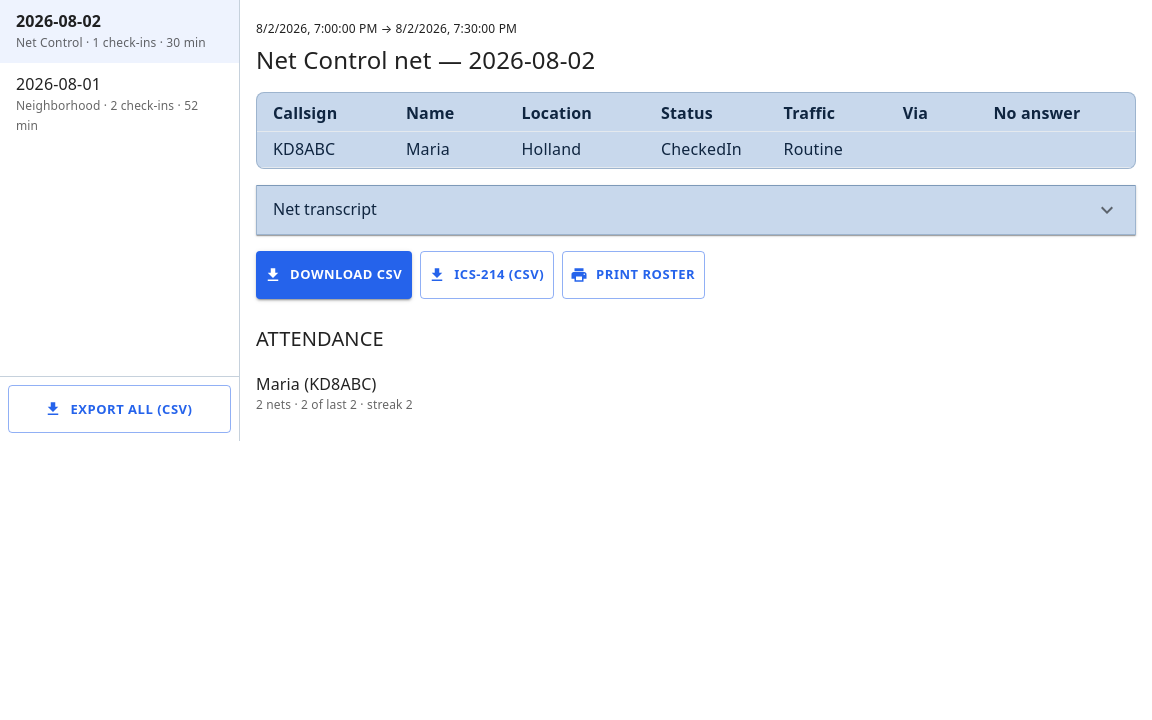
Test: PastNetsTab › will not export an ICS-214 until the incident name and preparer are given
The width and height of the screenshot is (1152, 720).
Step 1. Click the button "ICS-214 (CSV)" → (487, 274), box [420, 250, 554, 298]
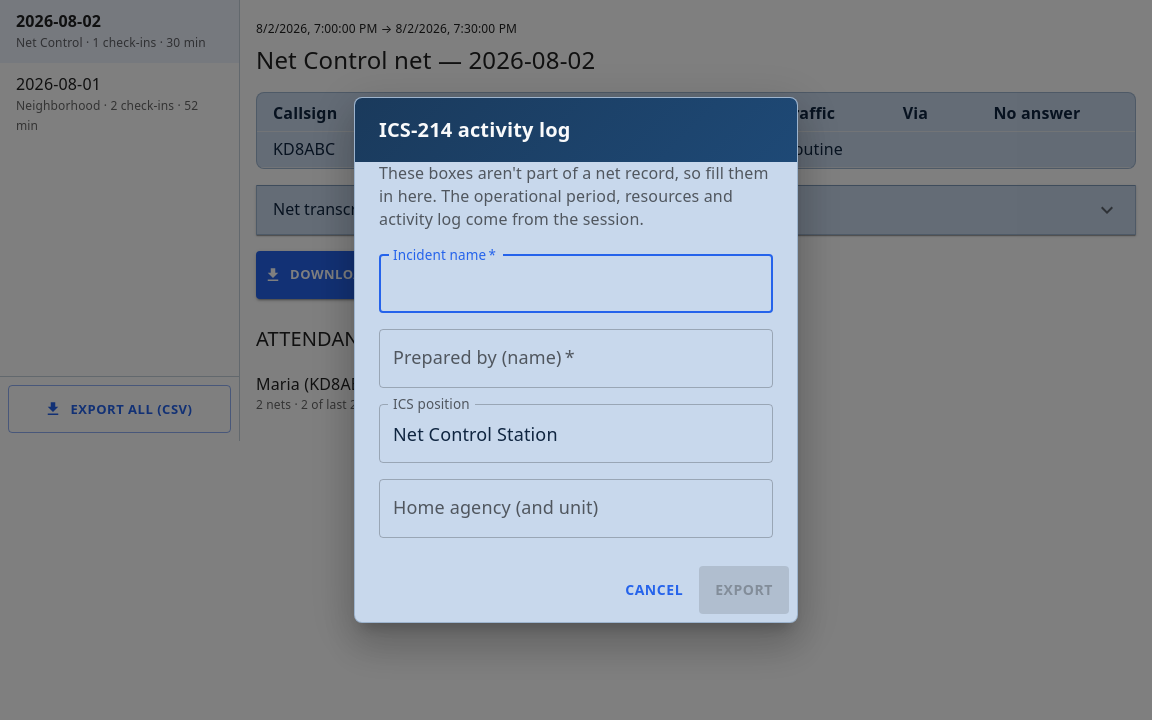
Result: the button "Export" is disabled at [699, 566, 789, 614]
Step 2. Type "Ottawa County Windstorm" into the field labelled "Incident name *" → (576, 284), box [379, 255, 773, 314]
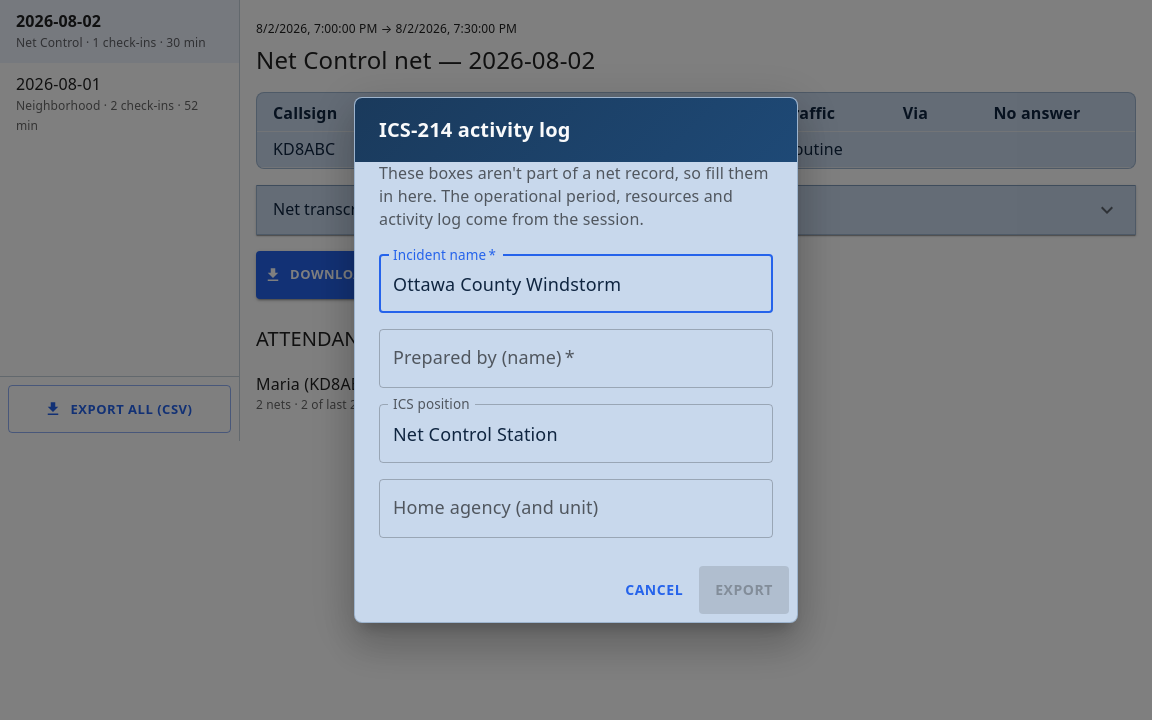
Result: the button "Export" is disabled at [699, 566, 789, 614]
Step 3. Type "Maria, KD8ABC" into the field labelled "Prepared by (name) *" → (576, 359), box [379, 329, 773, 388]
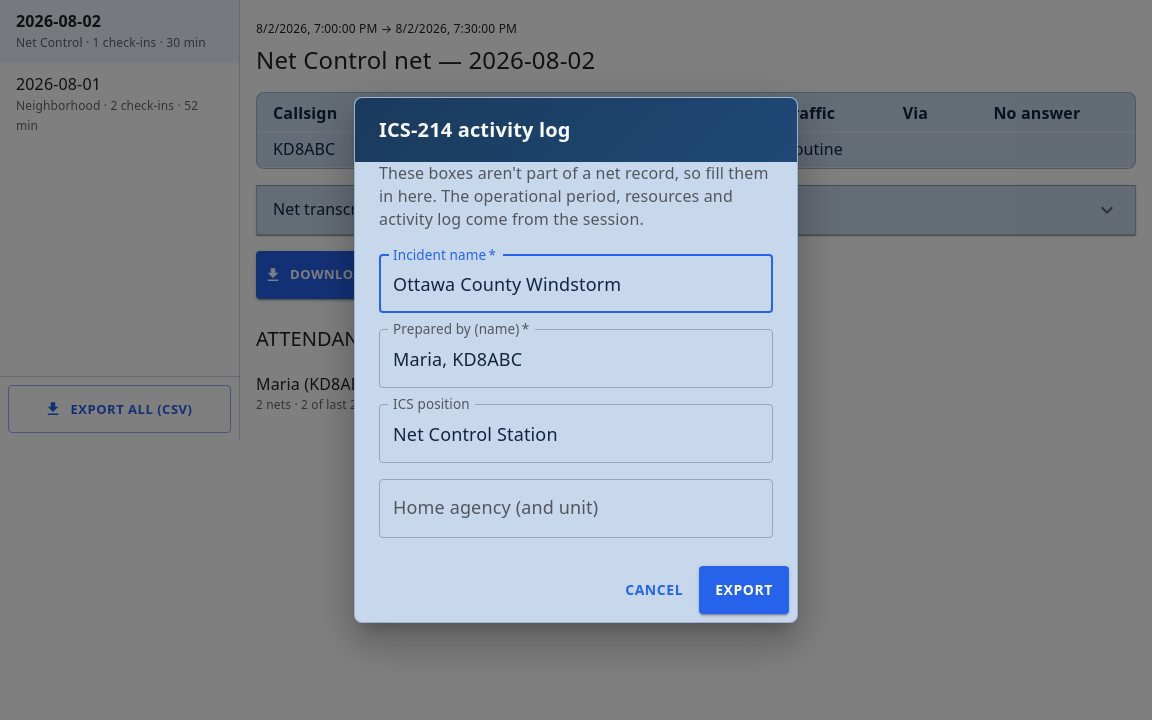
Result: the button "Export" is enabled at [699, 566, 789, 614]
